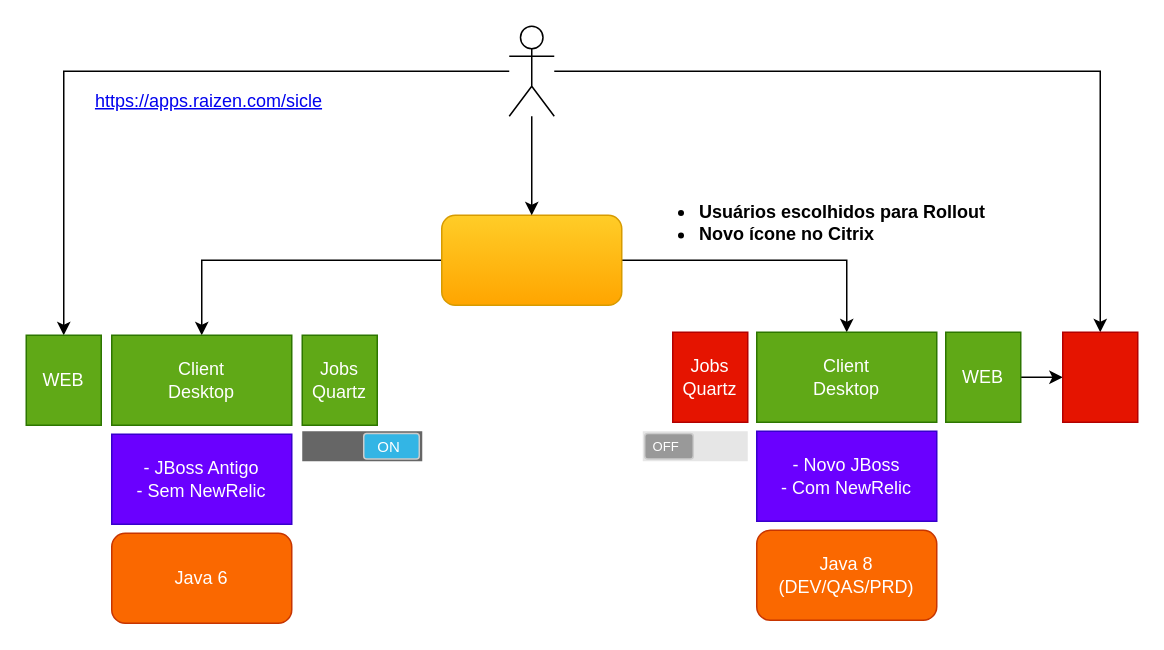
The diagram is 1164 pixels wide and 650 high, and some of its shapes have lost their labels. Here are the shapes that lost their labels. From the top down, the centre of each, then its label:
At pixel 531 70: "User".
At pixel 531 259: "Citrix".
At pixel 1099 376: "Nova URL".
